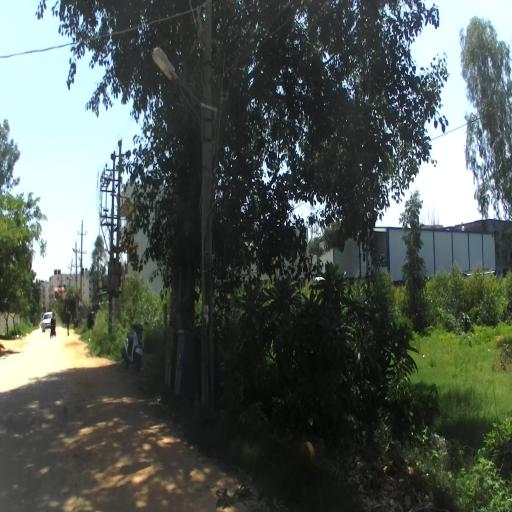street_light_0: (152, 48, 212, 144), (72, 248, 83, 268), (68, 266, 78, 282)
